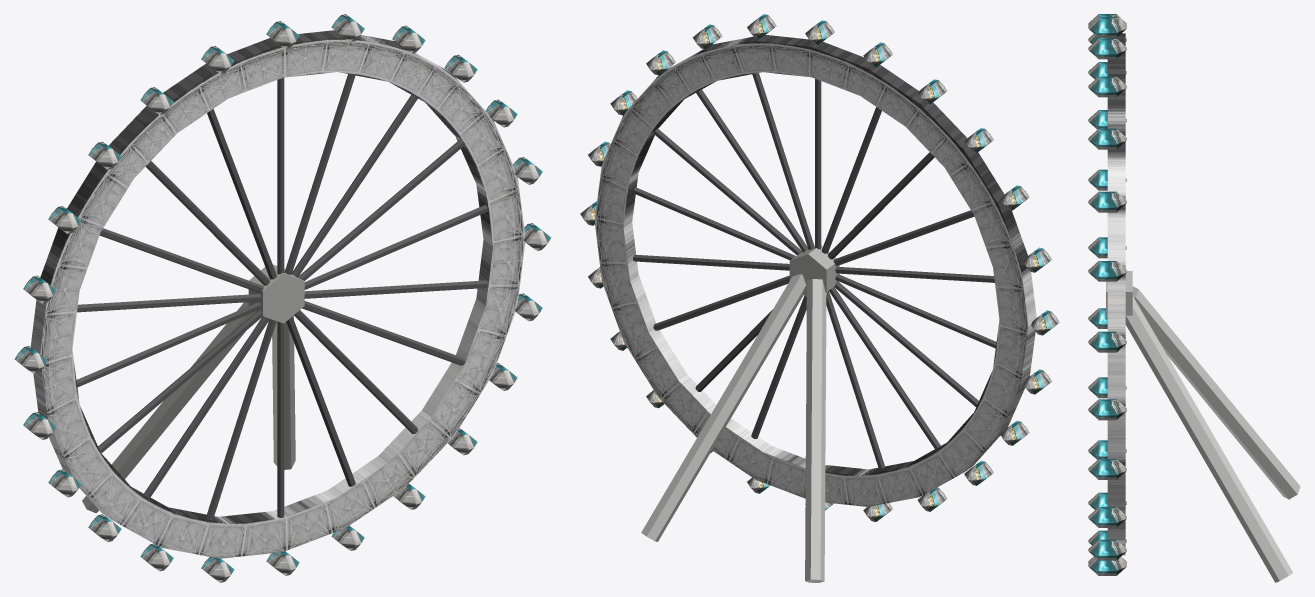
The model's file is London Eye.fbx.
3 renders of one model, left to right at view 1: azimuth 30°, elevation 25°; view 2: azimuth 150°, elevation 25°; view 3: azimuth 270°, elevation 25°, orthographic. The views are drawn at different scales.
Parts seen in each view (by area): view 1: eye, room, Cylinder, center, frame.009|frame.001|Dupli|, frame.018|frame.001|Dupli|, frame.017|frame.001|Dupli|, frame.008|frame.001|Dupli|, frame.010|frame.001|Dupli|, frame.019|frame.001|Dupli|, frame.007|frame.001|Dupli|, frame.016|frame.001|Dupli| (+10 smaller); view 2: eye, Cylinder, room, frame.009|frame.001|Dupli|, frame.018|frame.001|Dupli|, center, frame.017|frame.001|Dupli|, frame.008|frame.001|Dupli|, frame.019|frame.001|Dupli|, frame.010|frame.001|Dupli|, frame.007|frame.001|Dupli|, frame.016|frame.001|Dupli| (+9 smaller); view 3: Cylinder, room, eye, center.
Part boxes in pixels (x1=…): eye: x1=30, y1=30, x2=525, y2=558; room: x1=14, y1=14, x2=551, y2=582; Cylinder: x1=82, y1=302, x2=295, y2=513; center: x1=248, y1=264, x2=304, y2=323; frame.009|frame.001|Dupli|: x1=143, y1=316, x2=269, y2=498; frame.018|frame.001|Dupli|: x1=292, y1=95, x2=417, y2=277; frame.017|frame.001|Dupli|: x1=298, y1=139, x2=465, y2=280; frame.008|frame.001|Dupli|: x1=98, y1=310, x2=262, y2=453; frame.010|frame.001|Dupli|: x1=206, y1=319, x2=276, y2=520; frame.019|frame.001|Dupli|: x1=284, y1=74, x2=355, y2=274; frame.007|frame.001|Dupli|: x1=76, y1=302, x2=261, y2=387; frame.016|frame.001|Dupli|: x1=304, y1=205, x2=488, y2=289; eye: x1=594, y1=35, x2=1036, y2=506; Cylinder: x1=641, y1=274, x2=826, y2=582; room: x1=580, y1=14, x2=1059, y2=521; frame.009|frame.001|Dupli|: x1=829, y1=287, x2=940, y2=449; frame.018|frame.001|Dupli|: x1=696, y1=89, x2=807, y2=252; center: x1=789, y1=245, x2=839, y2=297; frame.017|frame.001|Dupli|: x1=653, y1=128, x2=802, y2=254; frame.008|frame.001|Dupli|: x1=834, y1=281, x2=978, y2=406; frame.019|frame.001|Dupli|: x1=752, y1=73, x2=814, y2=249; frame.010|frame.001|Dupli|: x1=826, y1=291, x2=884, y2=469; frame.007|frame.001|Dupli|: x1=835, y1=274, x2=996, y2=348; frame.016|frame.001|Dupli|: x1=633, y1=187, x2=795, y2=260; Cylinder: x1=1125, y1=286, x2=1300, y2=582; room: x1=1088, y1=14, x2=1126, y2=575; eye: x1=1107, y1=33, x2=1125, y2=555; center: x1=1106, y1=271, x2=1132, y2=317.
Size of the model in its own units: 2206 by 2186 by 823.
